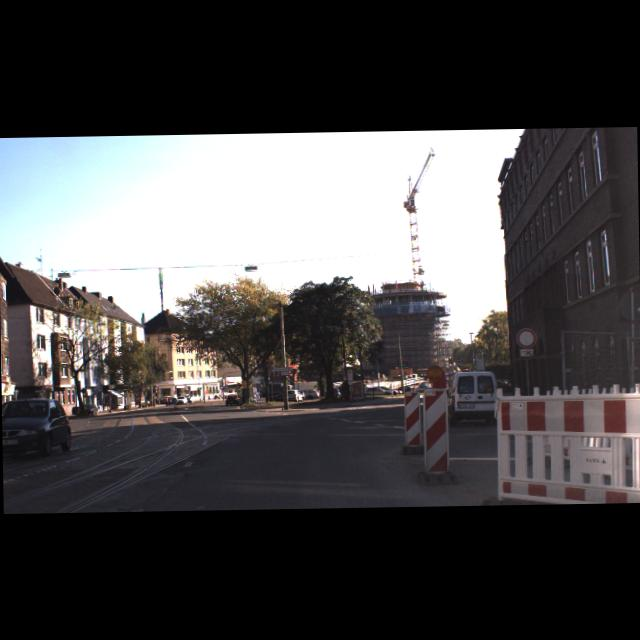prohibitory: (515, 326, 536, 348)
